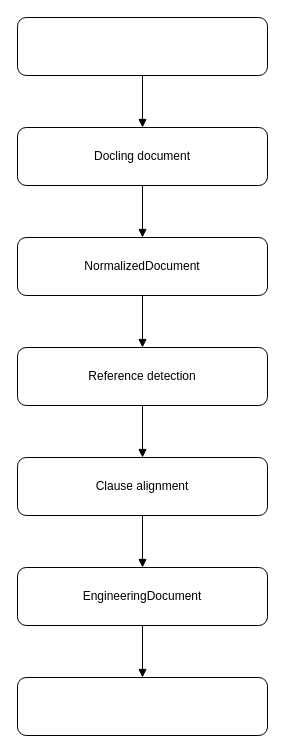
This 285x753 diagram has some shape labels left out. Each missing label, with the centre of its shape:
"Exports" goes at (x=142, y=706).
"PDF" goes at (x=142, y=46).
